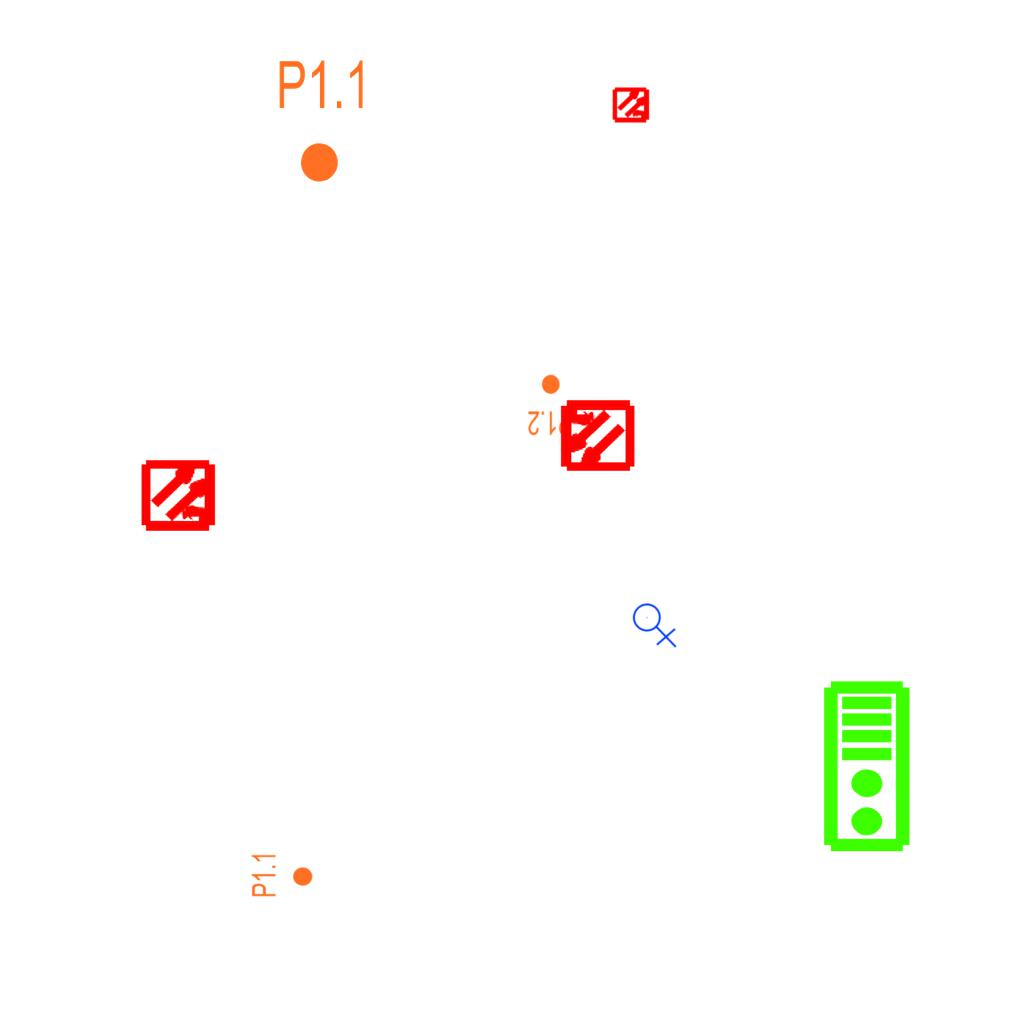Downlight_LED_Einbauleuchten_Flur: (276, 57, 369, 185), (250, 852, 314, 898), (527, 373, 573, 437)
Elektroanschluss_allgemein_230V_Geraeteanschlussdose_230V: (632, 599, 679, 648)
Gegensprechanlage_mit_Video: (821, 679, 916, 855)
OT_Multisensormelder_(Kombination_RMO_WMD): (124, 439, 237, 552), (539, 379, 652, 492), (604, 77, 660, 133)
